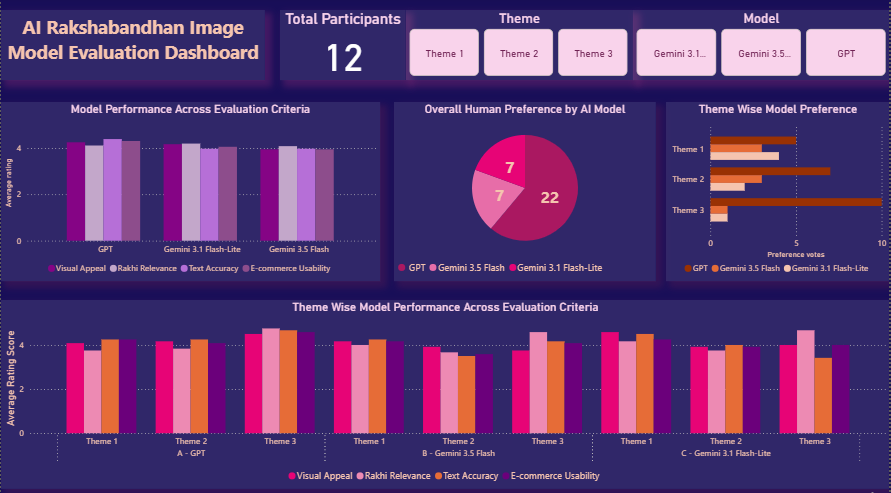

What the dashboard file says about the page in this screenshot:
{"tool":"powerbi","page":{"name":"Page 1","canvas":[1280,720],"ordinal":0},"visuals":[{"type":"card","title":"Total Participants","fields":{"Values":["CountNonNull(Copy of Form responses 1.Full Name )"]},"box":[401.8,18.7,181.4,100.8],"z":0},{"type":"advancedSlicerVisual","fields":{"Values":["Theme wise Analysis.Theme"]},"box":[583.2,18.7,326.9,100.8],"z":1000},{"type":"advancedSlicerVisual","fields":{"Values":["Overall Analysis.Model"]},"box":[910.1,18.7,370.1,100.8],"z":2000},{"type":"clusteredBarChart","title":"Theme Wise Model Preference","fields":{"Category":["Theme wise Analysis.Theme"],"Y":["Sum(Theme wise Analysis.GPT)","Sum(Theme wise Analysis.Gemini 3.5 Flash)","Sum(Theme wise Analysis.Gemini 3.1 Flash-Lite)"]},"box":[957.6,151.2,322.6,257.8],"z":3000},{"type":"pieChart","title":"Overall Human Preference by AI Model","fields":{"Y":["Sum(Theme wise Analysis.GPT)","Sum(Theme wise Analysis.Gemini 3.5 Flash)","Sum(Theme wise Analysis.Gemini 3.1 Flash-Lite)"]},"box":[565.9,151.2,377.3,257.8],"z":4000},{"type":"clusteredColumnChart","title":"Model Performance Across Evaluation Criteria","fields":{"Category":["Overall Analysis.Model"],"Y":["Avg(Overall Analysis.Visual Appeal)","Avg(Overall Analysis.Rakhi Relevance)","Avg(Overall Analysis.Text Accuracy)","Avg(Overall Analysis.E-commerce Usability)"]},"box":[0,151.2,545.8,257.8],"z":5000},{"type":"clusteredColumnChart","title":"Theme Wise Model Performance Across Evaluation Criteria","fields":{"Category":["Model Analysis.Image / Model","Model Analysis.Column1"],"Y":["Sum(Model Analysis.Visual Appeal)","Sum(Model Analysis.Rakhi Relevance)","Sum(Model Analysis.Text Accuracy)","Sum(Model Analysis.E-commerce Usability)"]},"box":[0,436.3,1280.2,272.2],"z":6000},{"type":"textbox","box":[0,18.7,380.2,100.8],"z":7000}]}

Visuals, with their boxes in screenshot pixels (x1, y1, x2, y2), scaled from the page's 1280x720 canvas onto the 891x493 screenshot:
"Total Participants" card: 280,13,406,82
advancedSlicerVisual - Theme wise Analysis.Theme: 406,13,634,82
advancedSlicerVisual - Overall Analysis.Model: 634,13,890,82
"Theme Wise Model Preference" clusteredBarChart: 667,104,890,280
"Overall Human Preference by AI Model" pieChart: 394,104,657,280
"Model Performance Across Evaluation Criteria" clusteredColumnChart: 0,104,380,280
"Theme Wise Model Performance Across Evaluation Criteria" clusteredColumnChart: 0,299,890,485
textbox: 0,13,265,82
